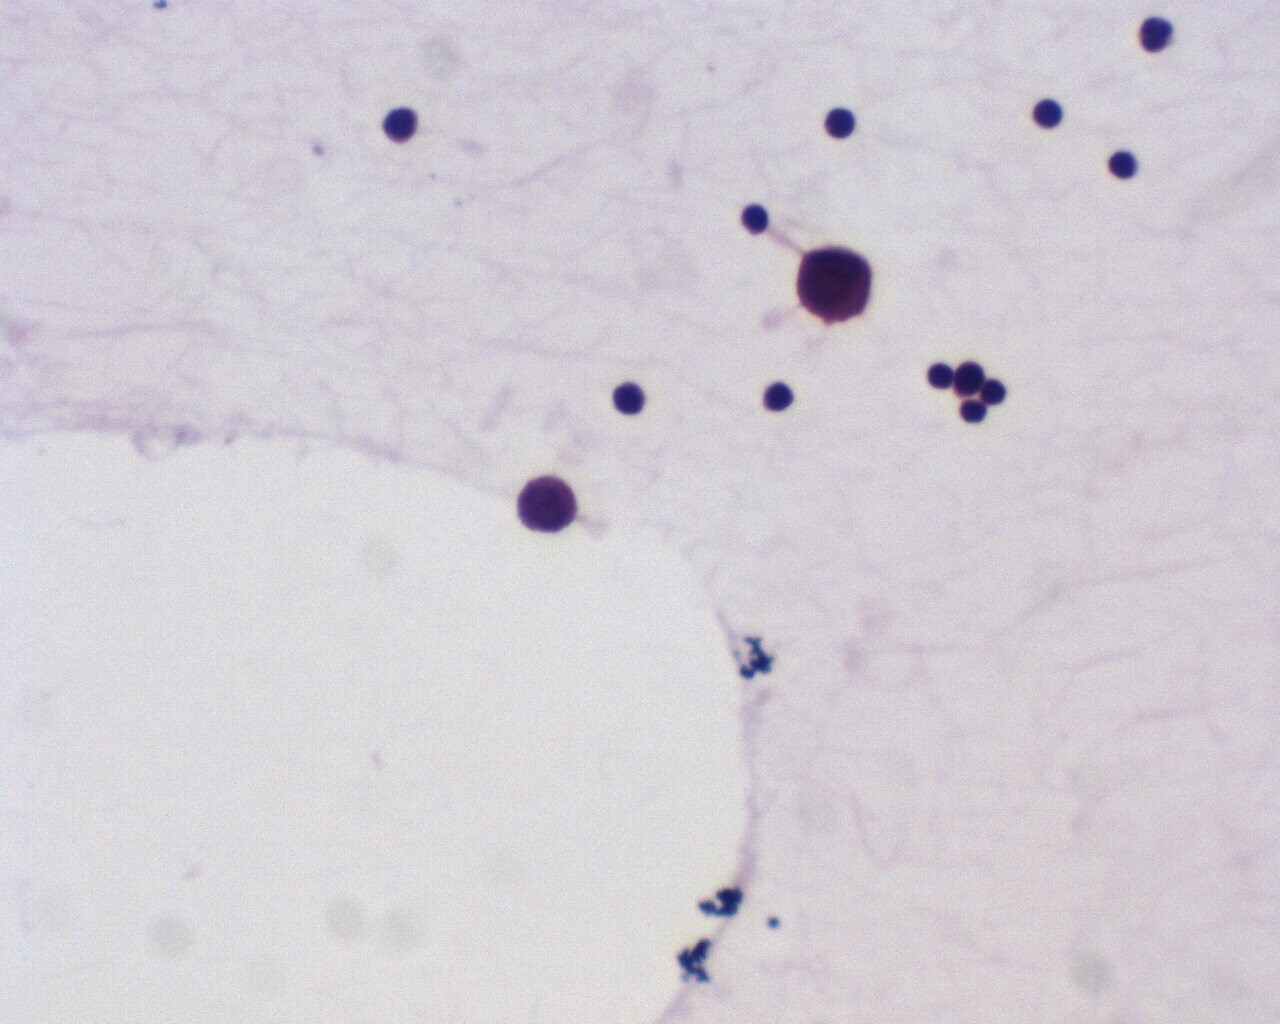ab: (790, 236, 877, 331), (515, 473, 585, 541)
lymph: (609, 376, 655, 423), (380, 104, 426, 148), (1102, 147, 1148, 188), (732, 200, 775, 241), (821, 103, 860, 143), (760, 375, 796, 416), (1032, 98, 1069, 132), (922, 359, 956, 393), (954, 395, 990, 427)
